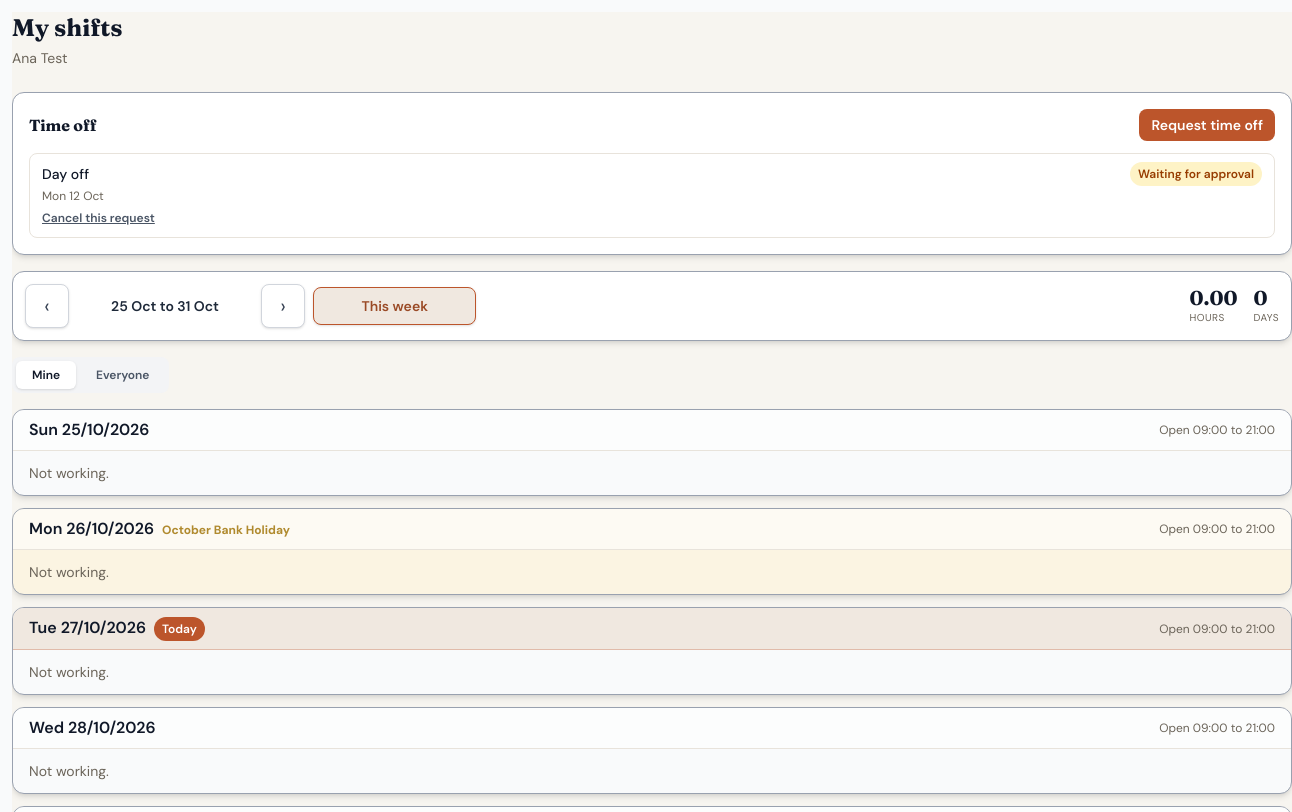
Test: cancelling a request for time off › says so when a manager has already answered it
Click the button "Cancel this request": [98, 218] box top-left (42, 210), bottom-right (155, 226)
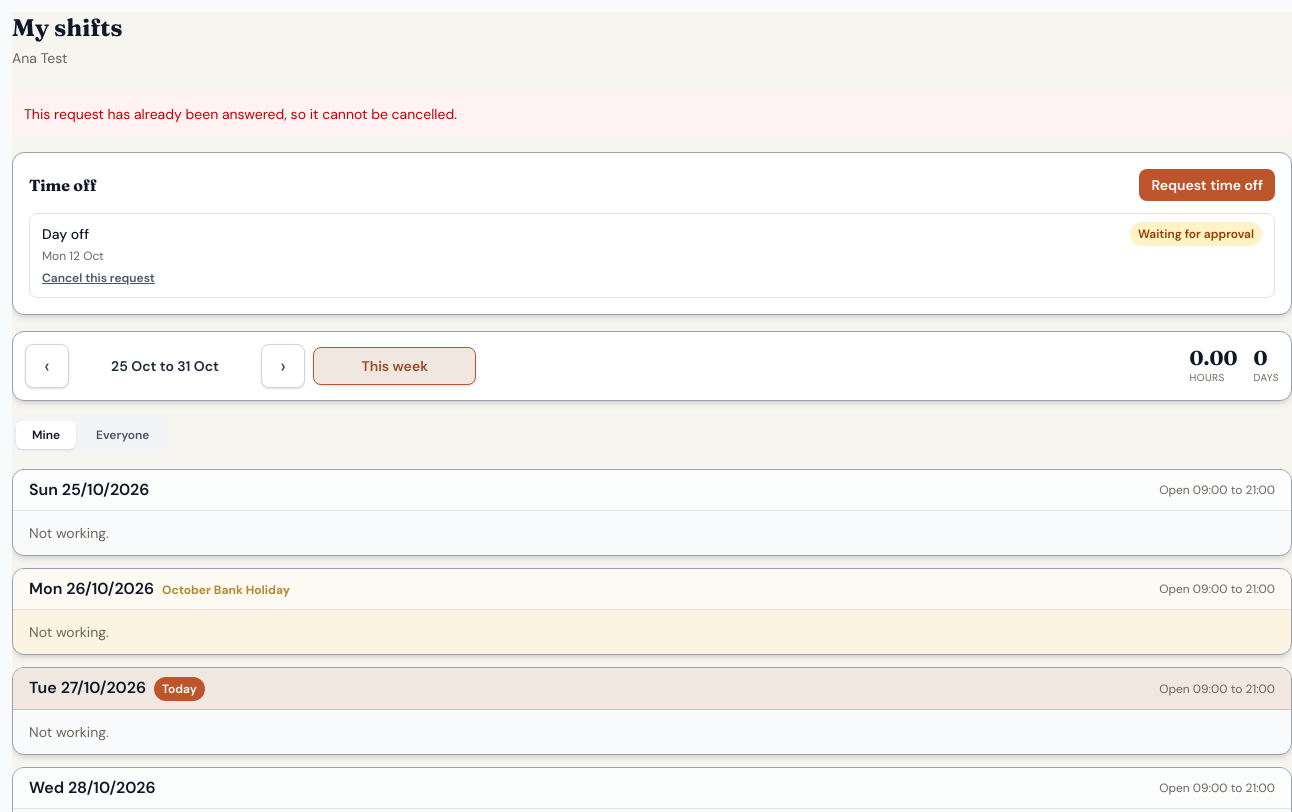
Expected: the text "This request has already been answered, so it cannot be cancelled." is shown, top-left (12, 92), bottom-right (1291, 136)
